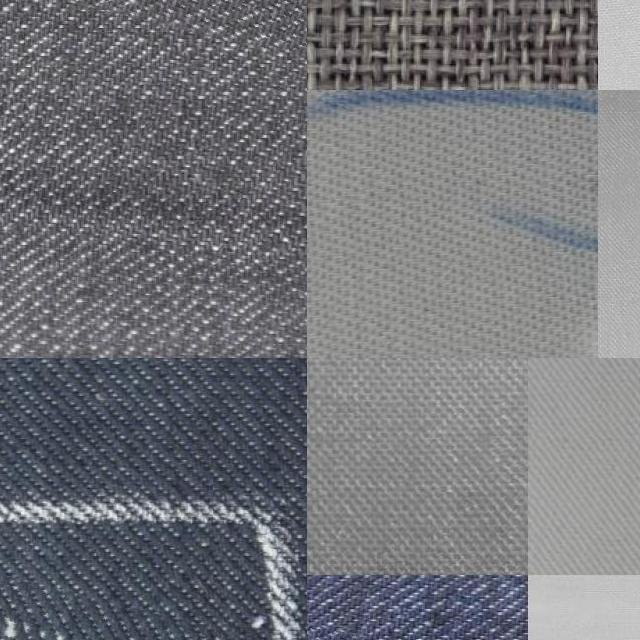Thread_other: (12, 0, 307, 87), (0, 565, 262, 640)
